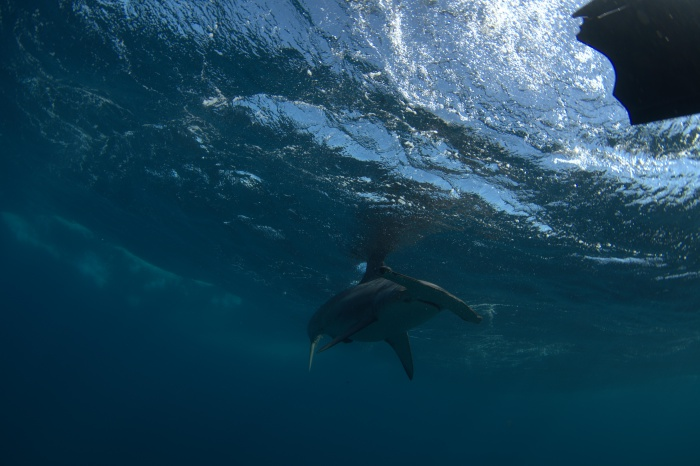Hammer: (157, 190, 582, 431), (271, 252, 498, 395)
